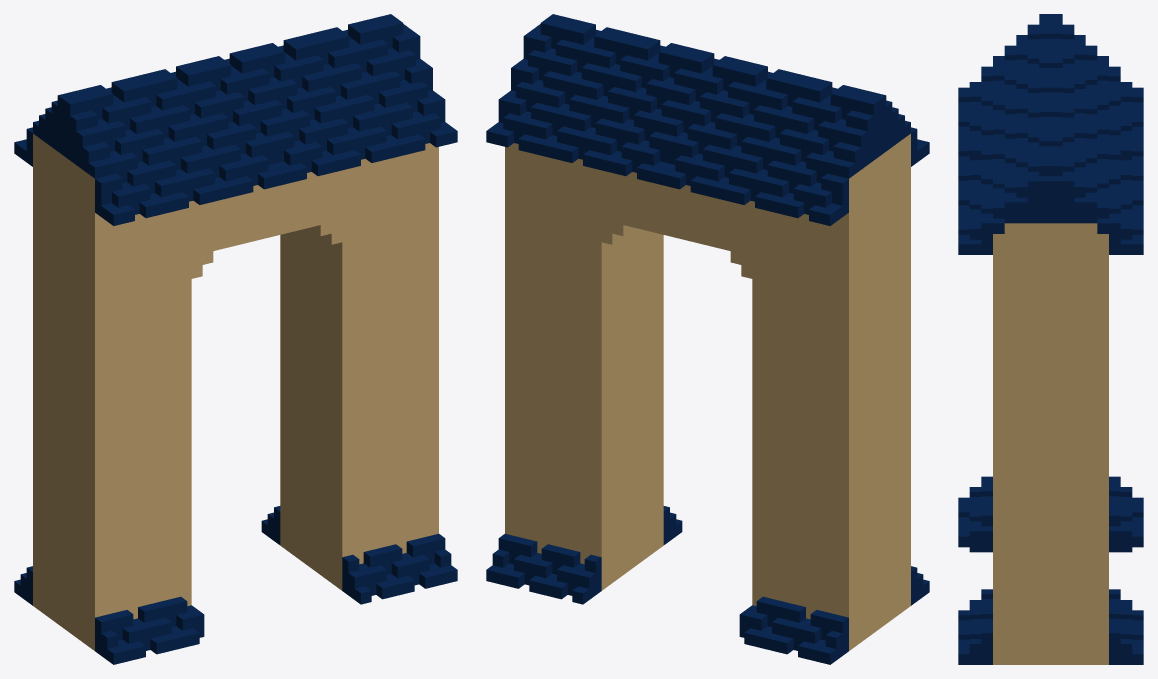
File: OutsideWalls_TiledDoorway.obj
3 renders of one model, left to right at view 1: azimuth 30°, elevation 25°; view 2: azimuth 150°, elevation 25°; view 3: azimuth 270°, elevation 25°, orthographic. The views are drawn at different scales.
Visible parts, largest first — view 1: OutsideWalls_TiledDoorway; view 2: OutsideWalls_TiledDoorway; view 3: OutsideWalls_TiledDoorway.
Boxes of the visible parts, x1=… form: OutsideWalls_TiledDoorway: x1=14, y1=14, x2=457, y2=664; OutsideWalls_TiledDoorway: x1=486, y1=14, x2=929, y2=664; OutsideWalls_TiledDoorway: x1=958, y1=14, x2=1143, y2=664.
Bounding box in the file's own units: 32 × 47 × 16.
1 material, 1 textured.
